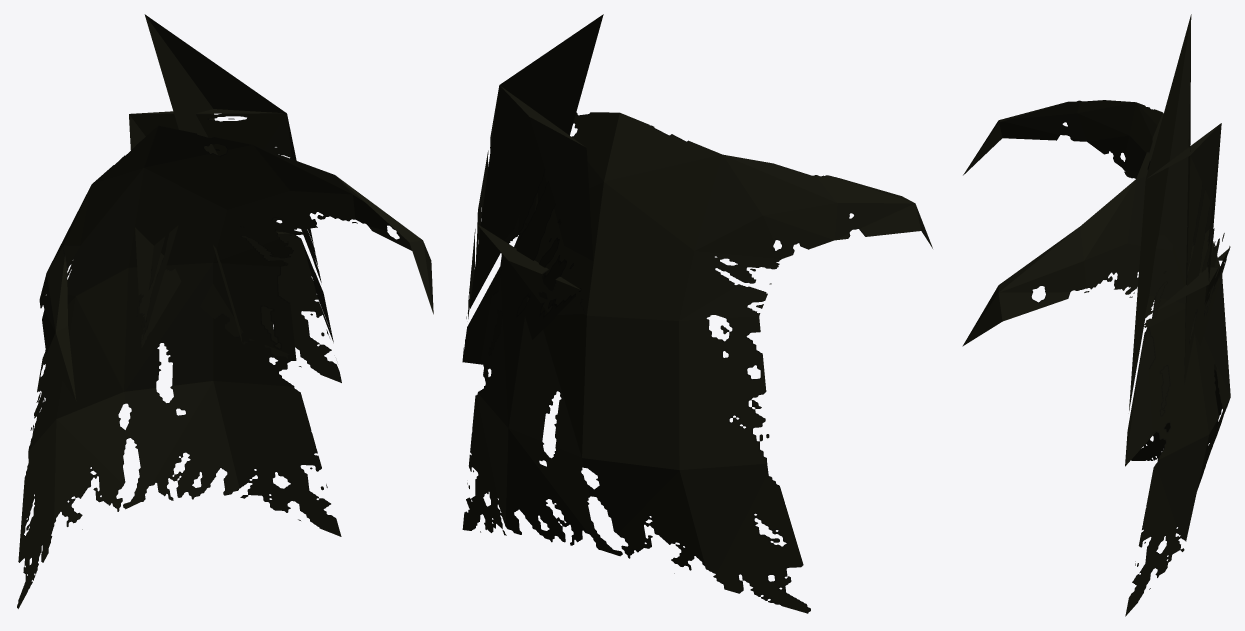
The model's file is unmosh.dae.
3 views of the same model, side by side, from view 1: azimuth 30°, elevation 25°; view 2: azimuth 150°, elevation 25°; view 3: azimuth 270°, elevation 25° (orthographic). The views are drawn at different scales.
Parts seen in each view (by area): view 1: bd, hd; view 2: bd, hd; view 3: bd, hd.
Boxes of the visible parts, x1,y1,x2,y2 form: bd: [17, 125, 433, 608]; hd: [129, 14, 341, 382]; bd: [462, 112, 932, 613]; hd: [462, 14, 603, 364]; bd: [962, 100, 1230, 616]; hd: [1125, 14, 1230, 466].
Size of what is drawn, in the model's own units: 1.7 by 1.05 by 2.28.
Materials: 1 (1 with a texture image).
